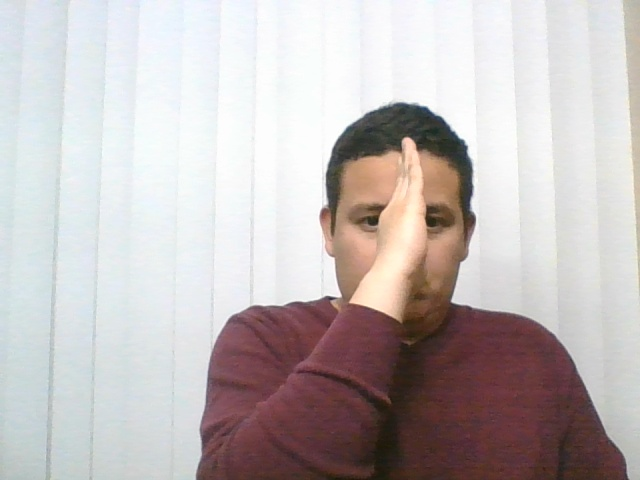God: (291, 125, 499, 353)
